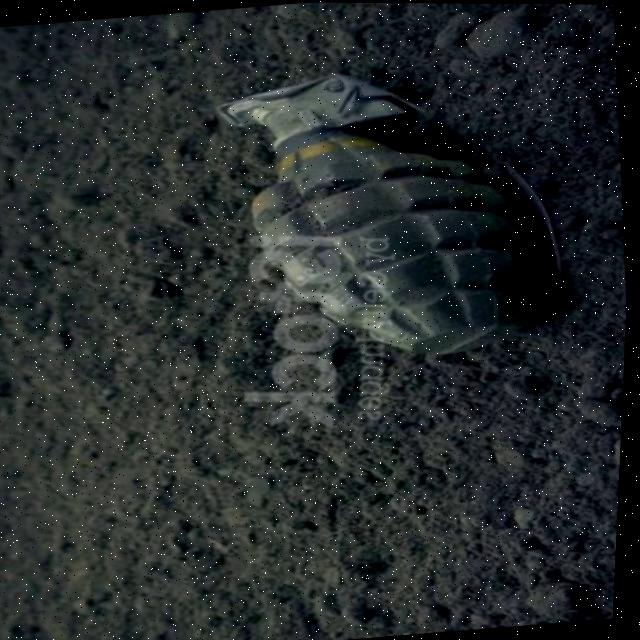grenade: (180, 38, 604, 391)
